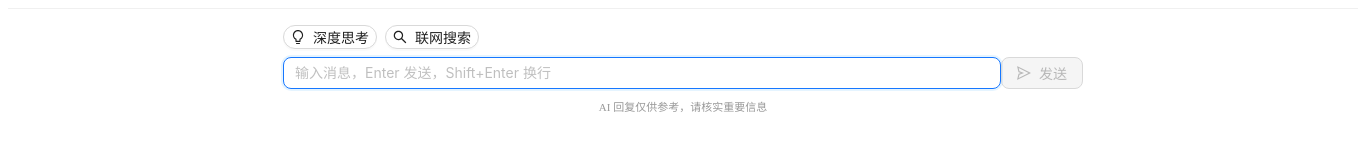
Test: ChatInput › 正常状态（非加载中） › should enable send button when input has content
This screenshot has width=1366, height=160.
Type "Hello" into the text box with placeholder "输入消息，Enter 发送，Shift+Enter 换行" at x=642, y=73, box [283, 57, 1001, 89]
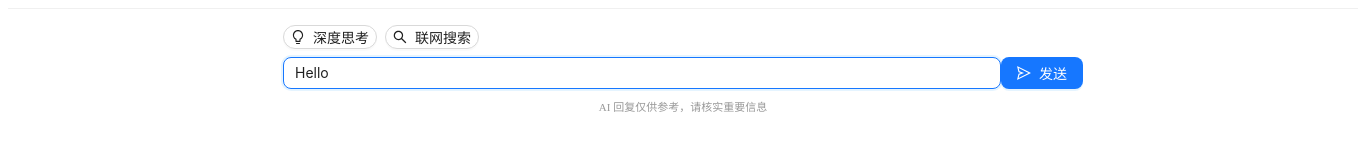
Now the button "发送" is enabled, box [1001, 57, 1083, 89]
